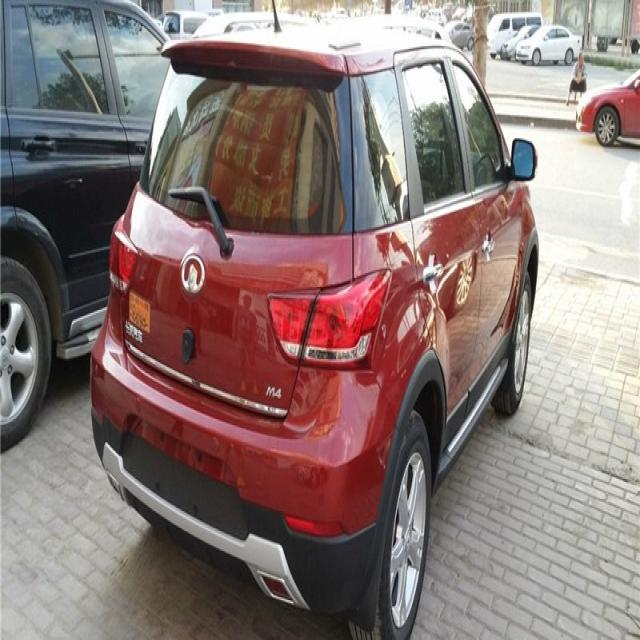back_glass: (132, 57, 358, 244)
back_left_side_light: (106, 209, 144, 301)
back_right_side_light: (265, 262, 393, 374)
door: (395, 56, 485, 406)
front_right_side_door: (444, 42, 520, 425)
front_right_side_mirror: (506, 127, 541, 183)
rear_bumper: (86, 324, 400, 615)
wheel: (346, 408, 434, 640), (492, 267, 534, 421)
